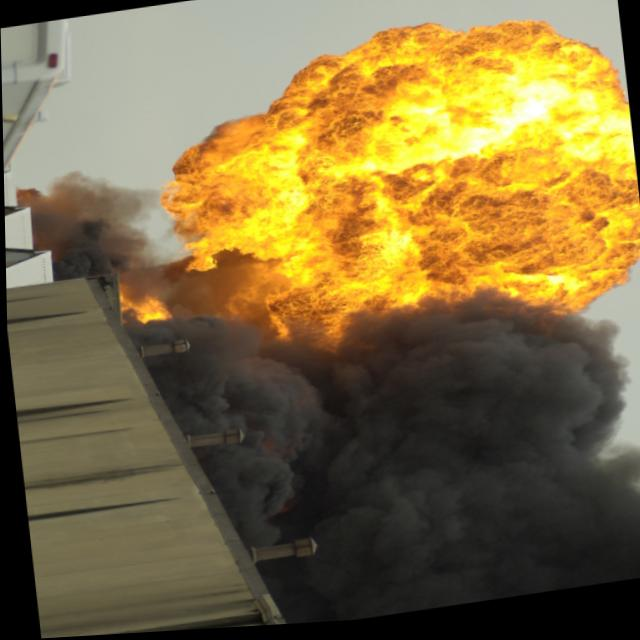Fire: (46, 1, 640, 386)
